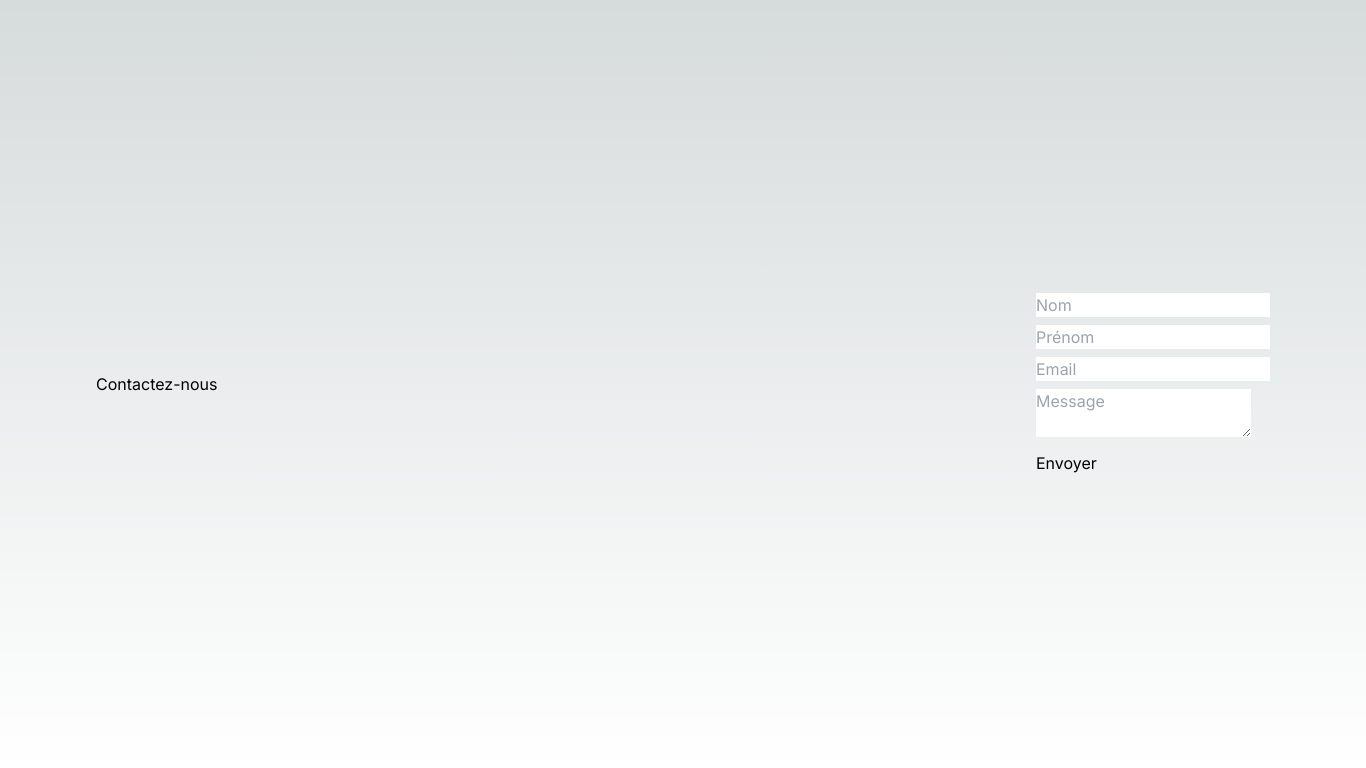
Form chack › cant submit a contact request with lastName empty field
Type "John" into the field named "firstName" at (1153, 337), box [1036,325,1270,349]
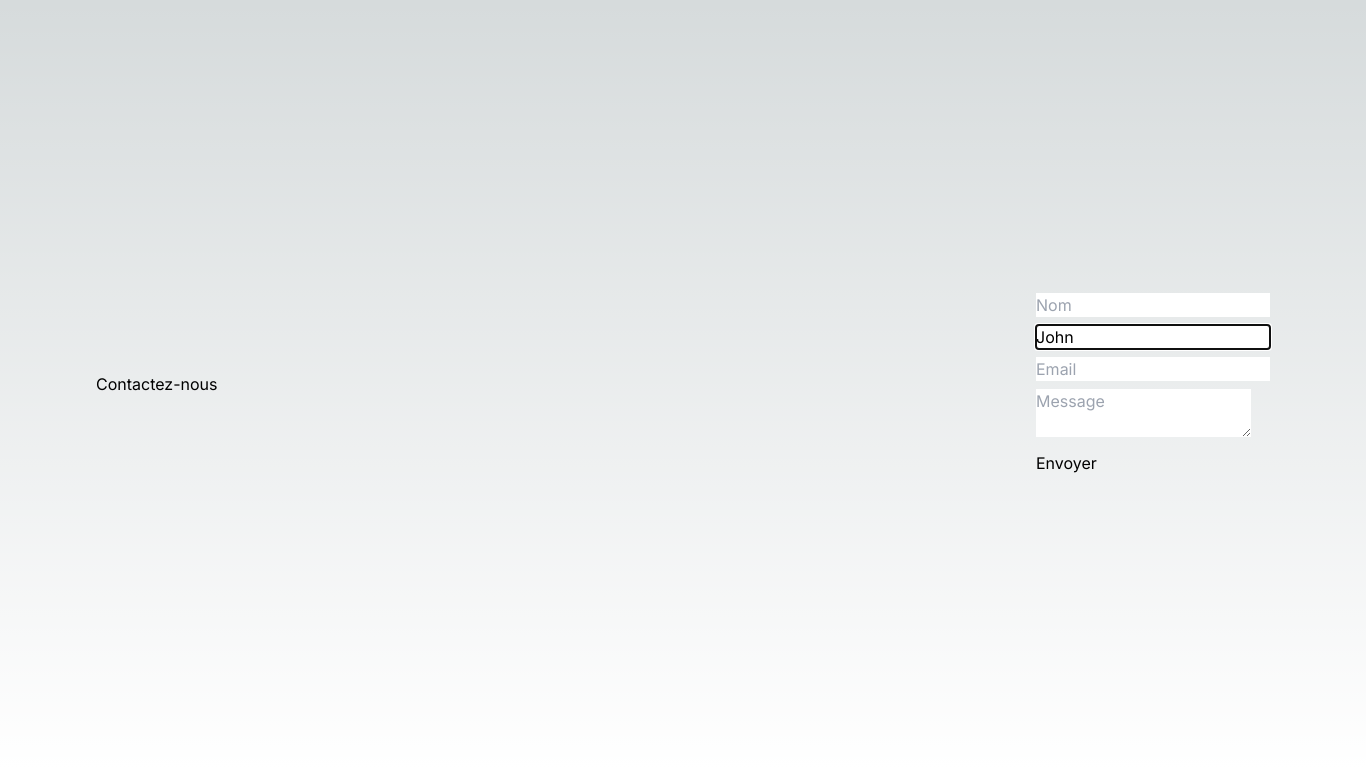
Type "john.doe@myges.fr" into the field named "email" at (1153, 369), box [1036,357,1270,381]
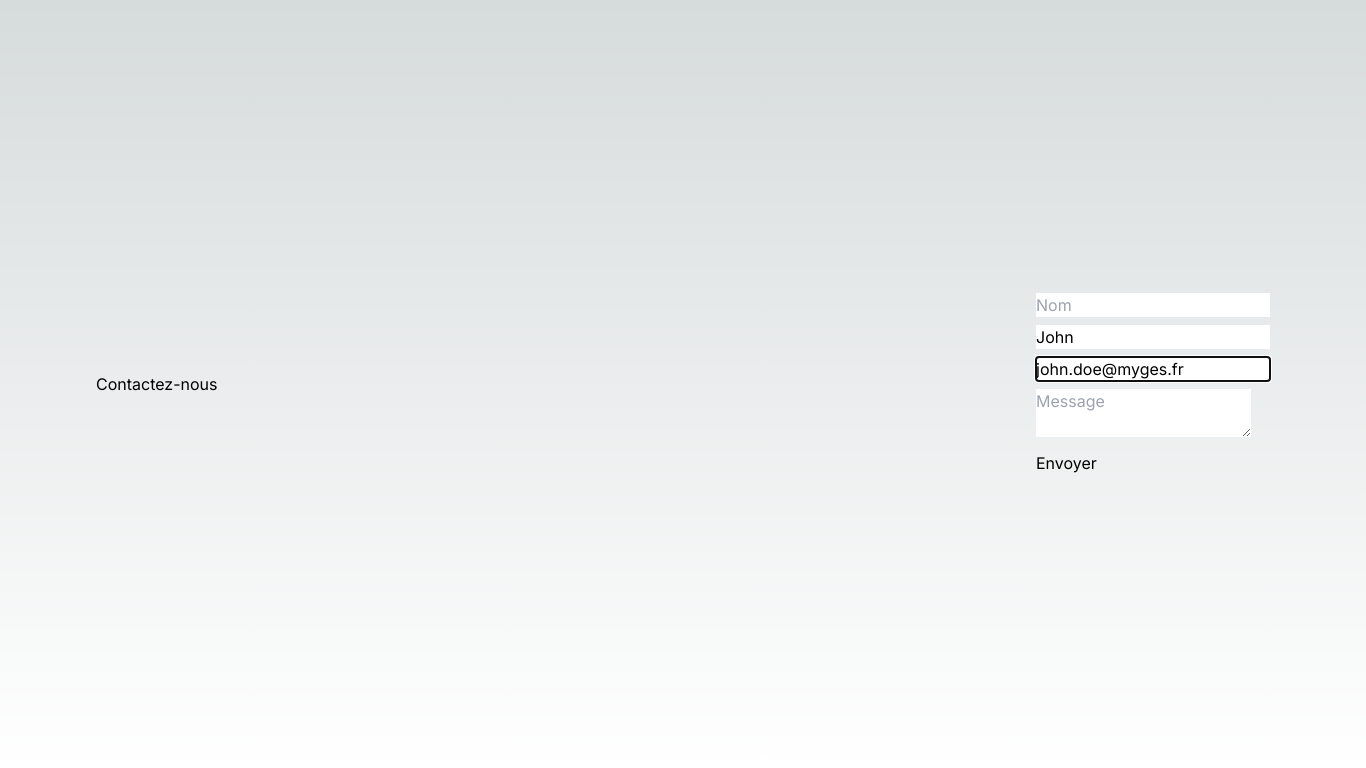
Type "Ici le message" into the text box named "message" at (1144, 413), box [1036,389,1251,437]
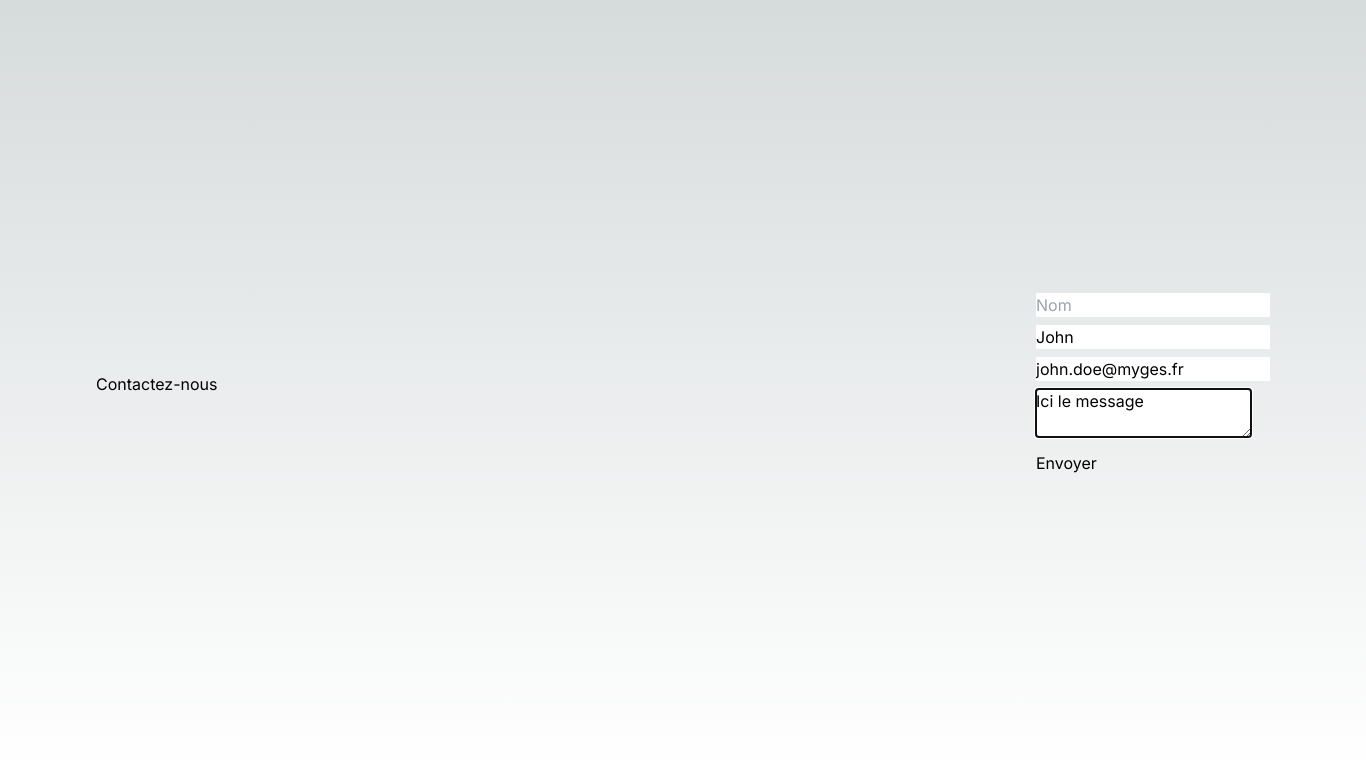
Click the submit button at (1067, 463), box [1036,451,1097,475]
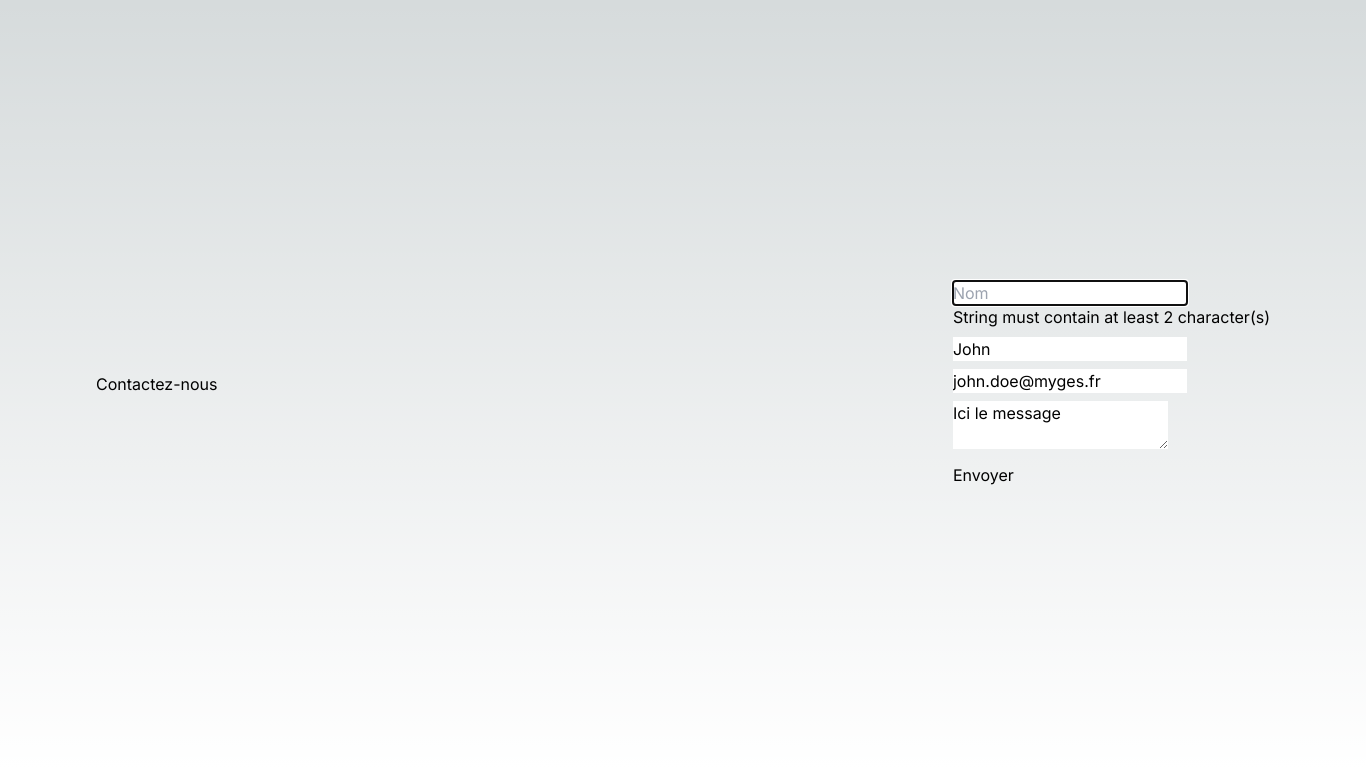
Expected: the text "String must contain at least 2 character(s)" is shown, [953,305,1270,329]
